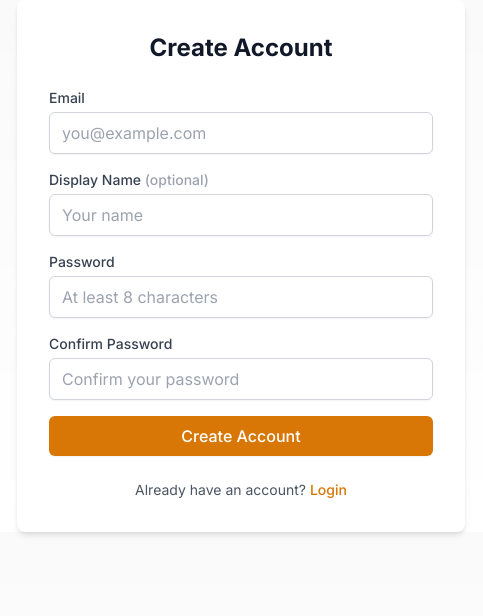
Test: RegisterPage › Validation › shows error when password is less than 8 characters
Type "new@example.com" into the field labelled "Email" at (241, 133), box [49,112,433,154]
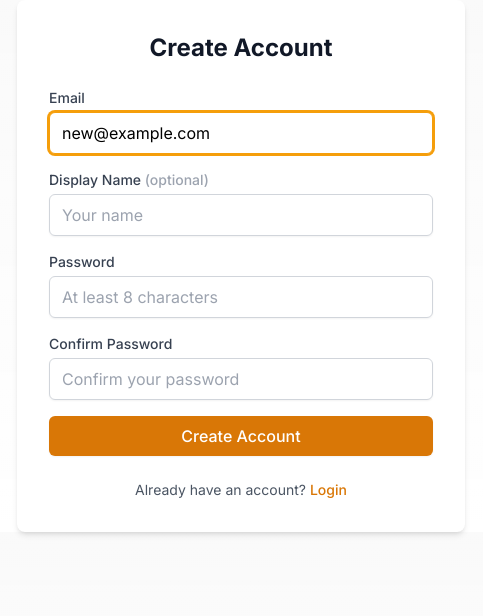
Type "short" into the password field labelled "Password" at (241, 297), box [49,276,433,318]
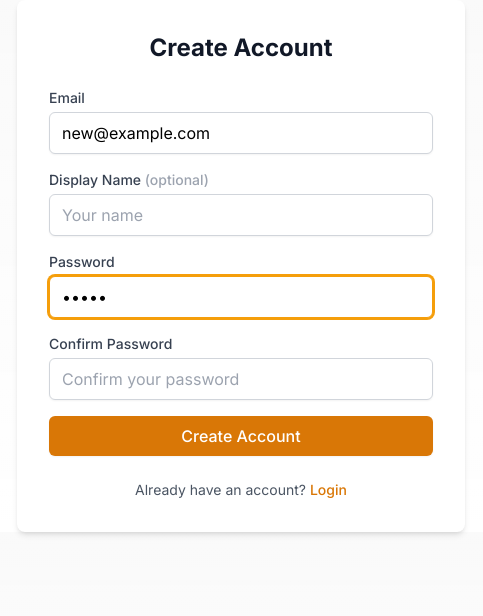
Type "short" into the password field labelled "Confirm Password" at (241, 379), box [49,358,433,400]
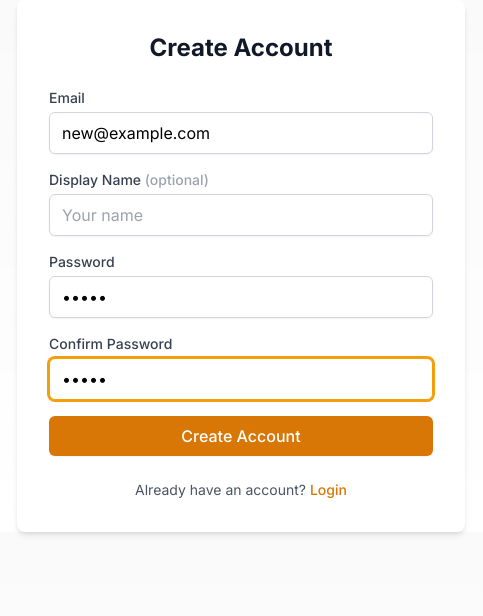
Click the button "Create Account" at (241, 436), box [49,416,433,456]
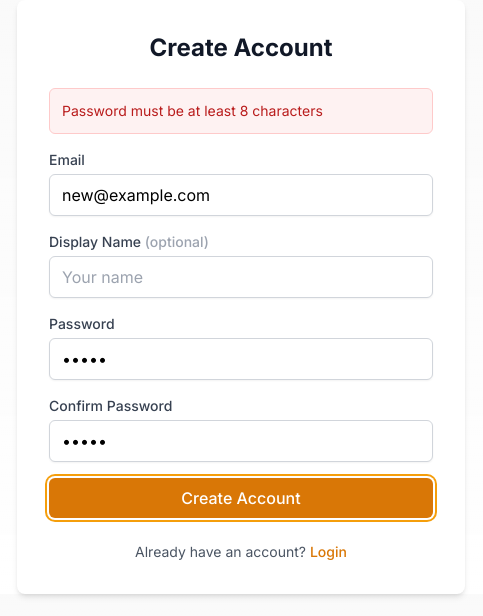
Expected: the text "Password must be at least 8 characters" is shown, [49,88,433,134]
